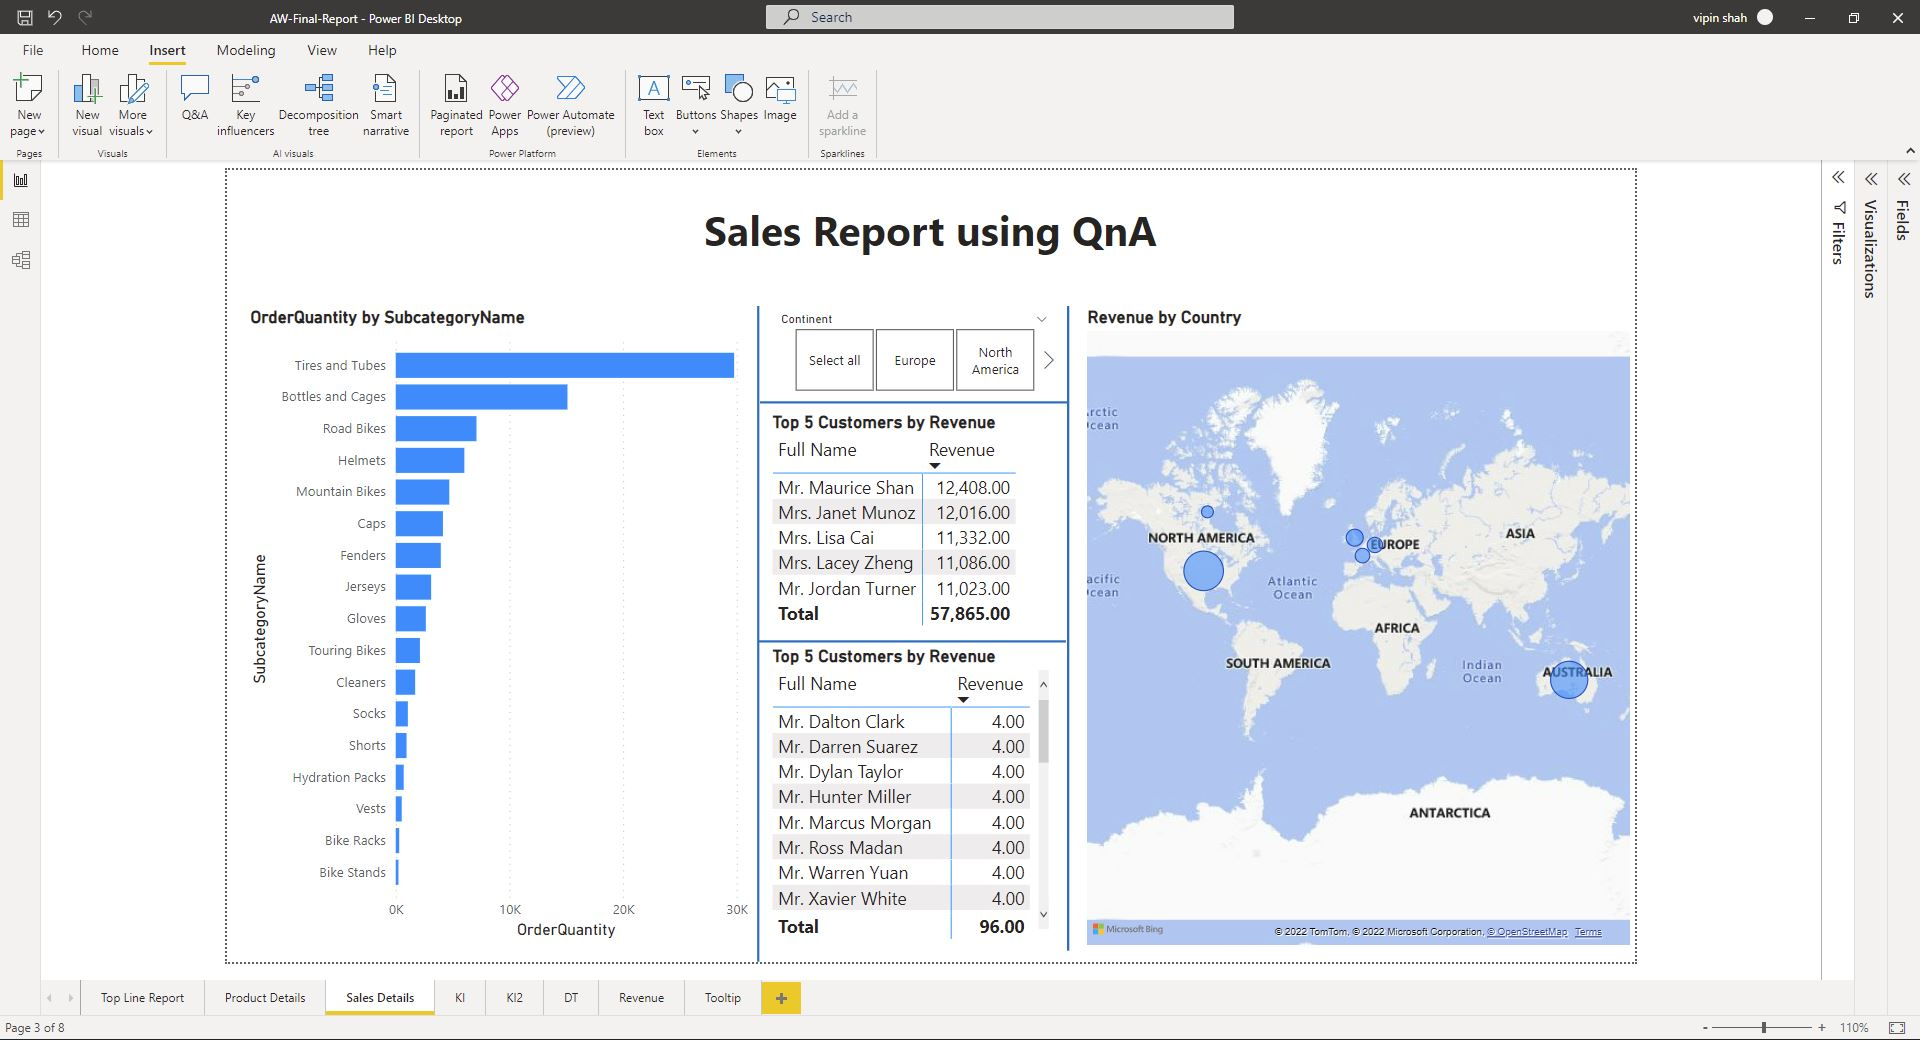

The page's visual inventory and layout, read from the dashboard file:
{"tool":"powerbi","page":{"name":"Sales Details","canvas":[1280,720],"ordinal":2},"visuals":[{"type":"clusteredBarChart","fields":{"Category":["d-Product-Subcategories.SubcategoryName"],"Y":["Sum(f-Sales.OrderQuantity)"]},"box":[8.2,123.6,470,586.4],"z":0},{"type":"pivotTable","title":"Top 5 Customers by Revenue","fields":{"Rows":["d-Customers.Full Name"],"Values":["Sum(f-Sales.Revenue)"]},"box":[490.9,219.1,264.5,205.5],"z":1000},{"type":"pivotTable","title":"Top 5 Customers by Revenue","fields":{"Rows":["d-Customers.Full Name"],"Values":["Sum(f-Sales.Revenue)"]},"box":[490.9,431.8,267.3,278.2],"z":2000},{"type":"shape","box":[475.5,123.6,15.5,596.4],"z":3000},{"type":"shape","box":[755.5,123.6,12.7,596.4],"z":4000},{"type":"shape","box":[483.6,424.5,279.1,8.2],"z":5000},{"type":"map","fields":{"Category":["d-Territories.Country"],"Size":["Sum(f-Sales.Revenue)"]},"box":[768.2,123.6,502.7,586.4],"z":6000},{"type":"textbox","box":[8.2,30,1262.7,76.4],"z":7000},{"type":"slicer","fields":{"Values":["d-Territories.Continent"]},"box":[490.9,123.6,267.3,83.6],"z":8000},{"type":"shape","box":[484.5,207.3,278.2,11.8],"z":9000}]}

Visuals, with their boxes on the page's 1280x720 design canvas (x1, y1, x2, y2). These are canvas units, not pixel positions in the 1920x1040 screenshot, which may show the page scaled, cropped or inside an application window:
clusteredBarChart - d-Product-Subcategories.SubcategoryName x Sum(f-Sales.OrderQuantity): x1=8 y1=124 x2=478 y2=710
"Top 5 Customers by Revenue" pivotTable: x1=491 y1=219 x2=755 y2=425
"Top 5 Customers by Revenue" pivotTable: x1=491 y1=432 x2=758 y2=710
shape: x1=476 y1=124 x2=491 y2=720
shape: x1=756 y1=124 x2=768 y2=720
shape: x1=484 y1=424 x2=763 y2=433
map - d-Territories.Country x Sum(f-Sales.Revenue): x1=768 y1=124 x2=1271 y2=710
textbox: x1=8 y1=30 x2=1271 y2=106
slicer - d-Territories.Continent: x1=491 y1=124 x2=758 y2=207
shape: x1=484 y1=207 x2=763 y2=219
